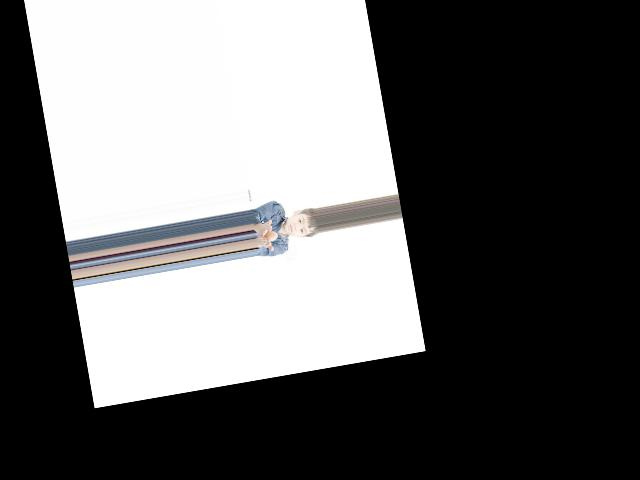egg: (263, 229, 278, 242)
